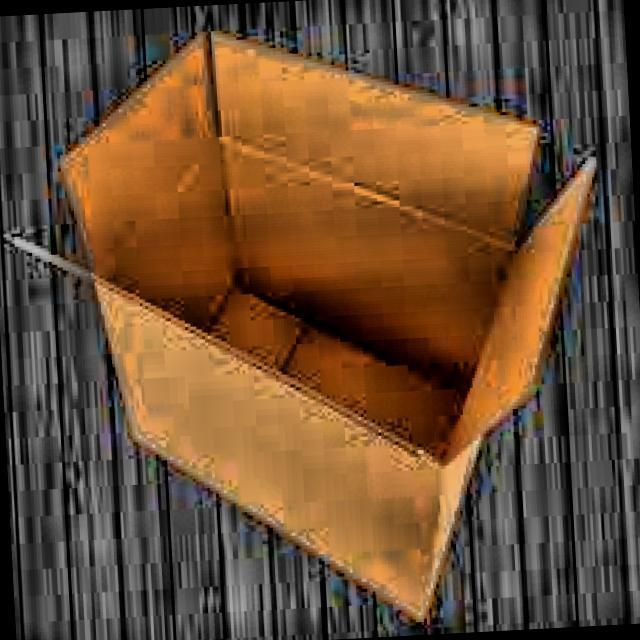cardboard: (40, 5, 622, 637)
